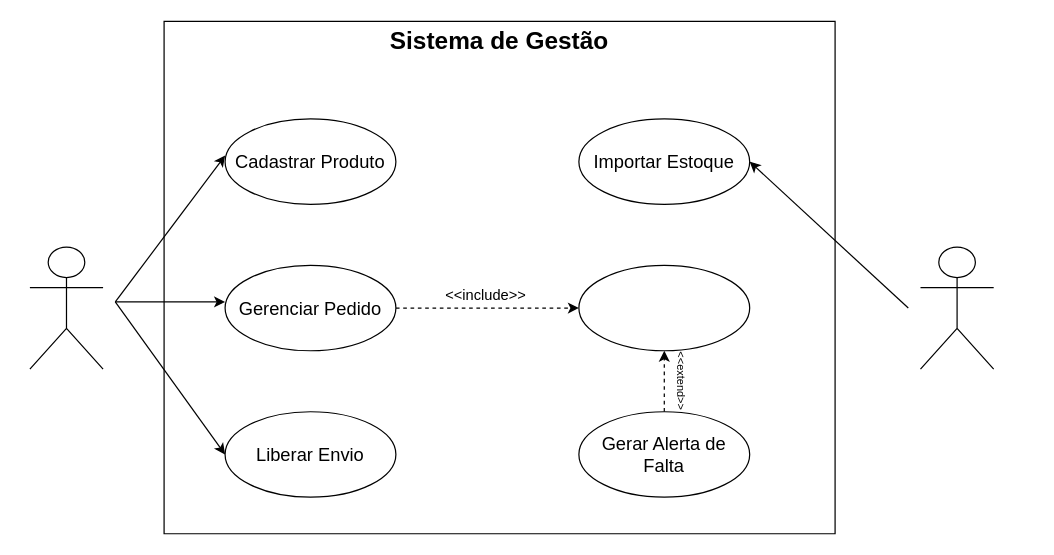
This 1054x555 diagram has some shape labels left out. The shapes that lost their labels are listed below. From the top down, each one's centre as x and y in pixels, then its label:
the point at 66,307: Administrador
the point at 664,307: Validar Estoque do Pedido
the point at 956,307: Sistema do Fornecedor
